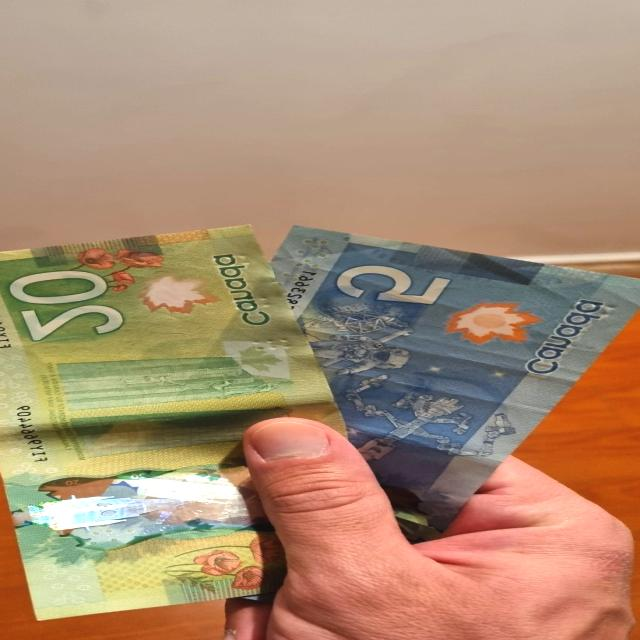20 cad: (0, 226, 337, 617)
5 cad: (266, 228, 640, 536)
